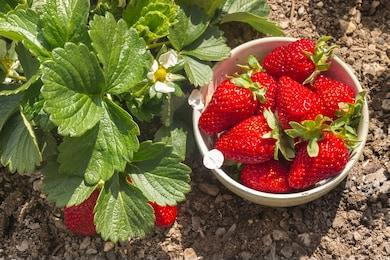Fresa: (284, 123, 354, 196), (208, 109, 289, 168), (197, 73, 266, 140), (271, 72, 332, 143), (258, 34, 328, 88), (307, 67, 369, 127)
